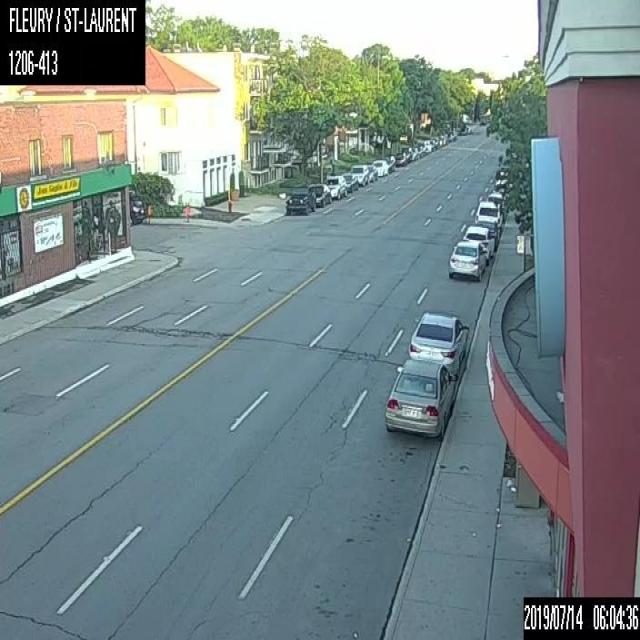vehicle: (383, 357, 457, 439), (408, 311, 469, 372), (446, 240, 486, 281), (461, 225, 494, 263), (284, 184, 314, 215), (475, 200, 502, 231), (128, 189, 146, 224), (324, 174, 347, 198), (307, 183, 331, 206), (350, 164, 369, 185), (341, 172, 358, 191), (372, 159, 387, 175), (383, 154, 394, 172), (368, 164, 378, 181), (394, 151, 406, 165), (401, 146, 412, 161), (410, 146, 418, 160), (414, 144, 422, 158)
